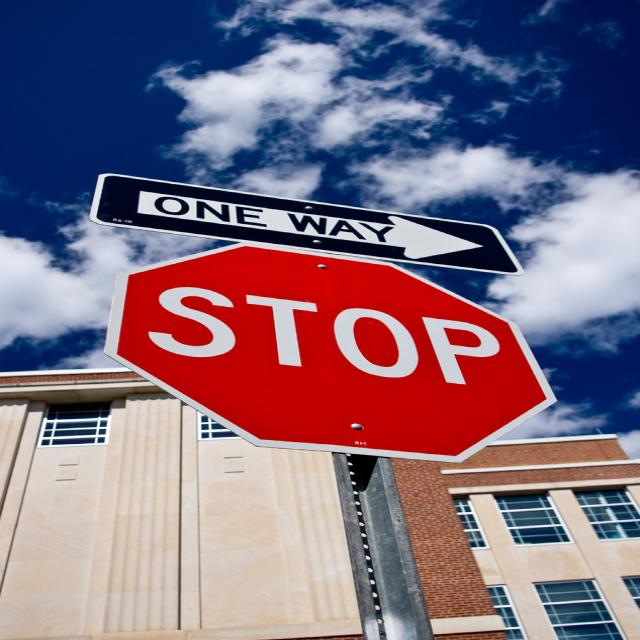Stop-sign: (100, 242, 557, 463)
